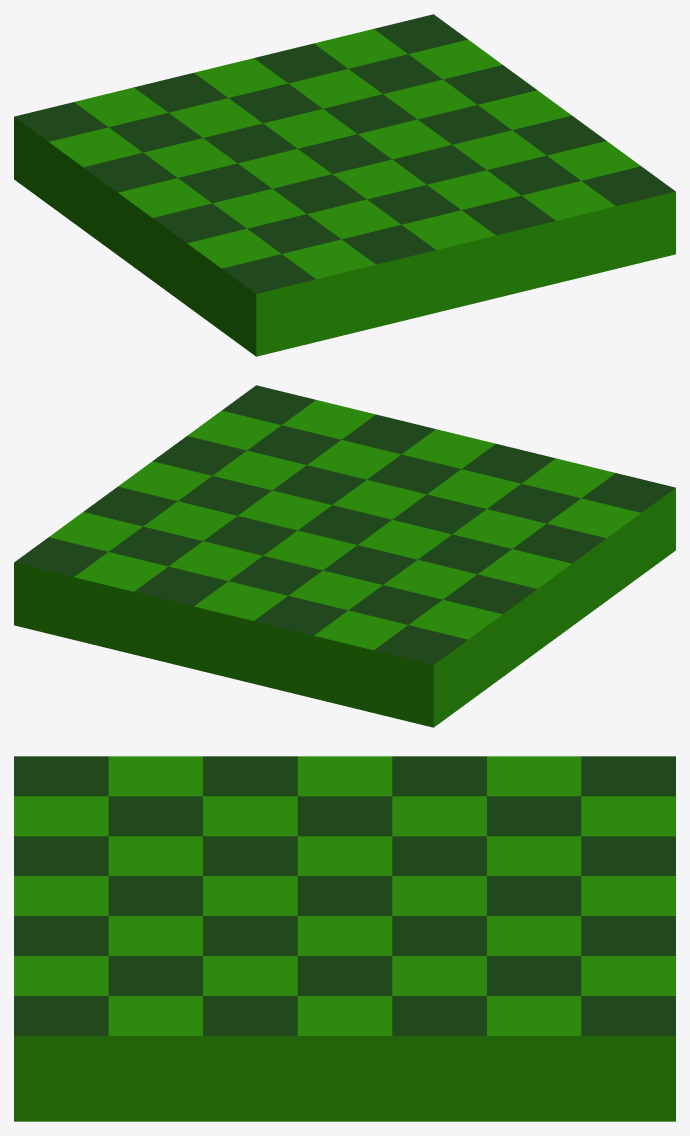
Rendered from Pasto.fbx.
The picture shows the model from 3 angles, top to bottom: view 1: azimuth 30°, elevation 25°; view 2: azimuth 150°, elevation 25°; view 3: azimuth 270°, elevation 25°; orthographic projection. The views are drawn at different scales.
Visible parts, largest first — view 1: pasto; view 2: pasto; view 3: pasto.
Boxes of the visible parts, x1,y1,x2,y2 form: pasto: [14, 14, 675, 356]; pasto: [14, 385, 675, 727]; pasto: [14, 756, 675, 1121].
Bounding box in the file's own units: 14 × 2 × 14.
